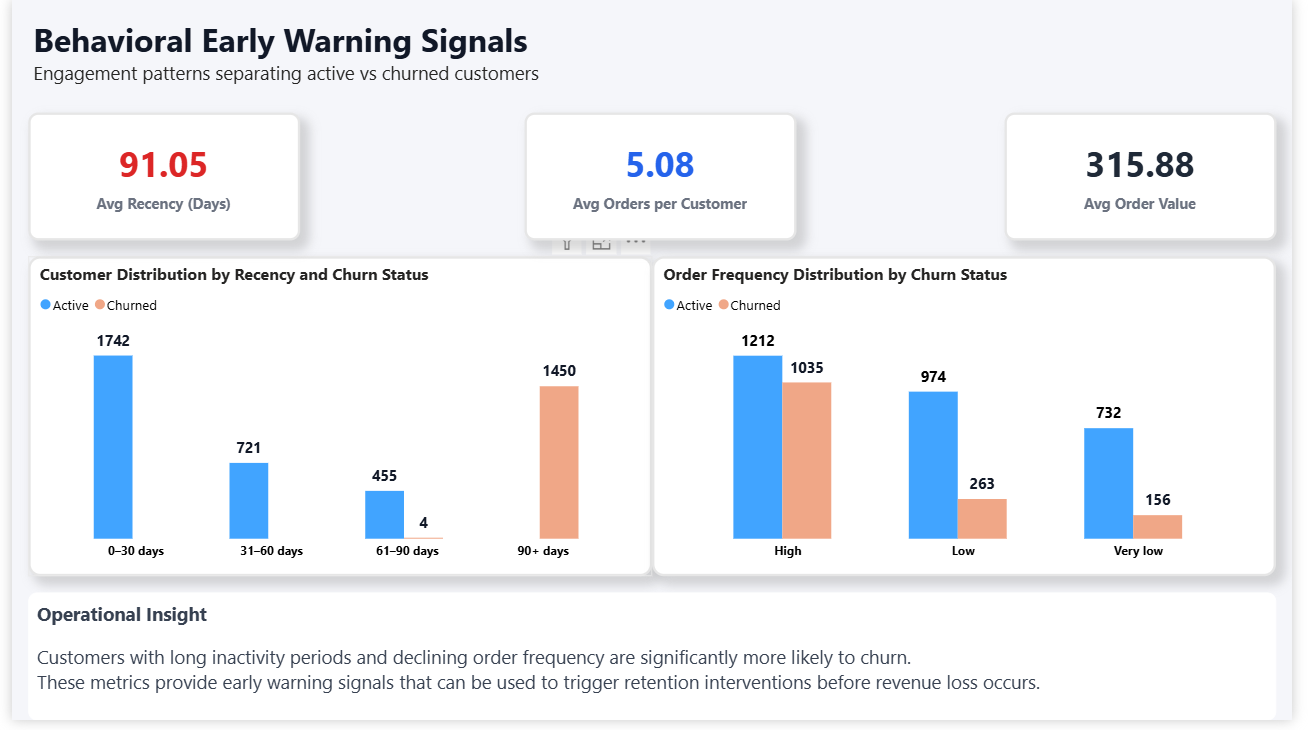

The dashboard page shown, as its layout file describes it:
{"tool":"powerbi","page":{"name":"Behavioral Early Warning Signals","canvas":[1280,720],"ordinal":1},"visuals":[{"type":"clusteredColumnChart","title":"Customer Distribution by Recency and Churn Status","fields":{"Category":["final_churn_powerbi.Recency Bucket"],"Y":["_Measures.Total Customers"],"Series":["final_churn_powerbi.Churn Status"]},"box":[16,256,624,320],"z":0},{"type":"cardVisual","fields":{"Data":["_Measures.Avg Recency (Days)"]},"box":[16,112,272,128],"z":1000},{"type":"cardVisual","fields":{"Data":["_Measures.Avg Orders per Customer"]},"box":[512,112,272,128],"z":2000},{"type":"cardVisual","fields":{"Data":["_Measures.Avg Order Value"]},"box":[992,112,272,128],"z":3000},{"type":"textbox","box":[16,13,1248,80],"z":4000},{"type":"clusteredColumnChart","title":"Order Frequency Distribution by Churn Status","fields":{"Category":["final_churn_powerbi.Order Frequency Bucket"],"Y":["_Measures.Total Customers"],"Series":["final_churn_powerbi.Churn Status"]},"box":[640,256,624,320],"z":5000},{"type":"textbox","box":[16,592,1248,128],"z":6000}]}

Visuals, with their boxes in screenshot pixels (x1, y1, x2, y2), scaled from the page's 1280x720 canvas onto the 1308x730 screenshot:
"Customer Distribution by Recency and Churn Status" clusteredColumnChart: rect(16, 260, 654, 584)
cardVisual - _Measures.Avg Recency (Days): rect(16, 114, 294, 243)
cardVisual - _Measures.Avg Orders per Customer: rect(523, 114, 801, 243)
cardVisual - _Measures.Avg Order Value: rect(1014, 114, 1292, 243)
textbox: rect(16, 13, 1292, 94)
"Order Frequency Distribution by Churn Status" clusteredColumnChart: rect(654, 260, 1292, 584)
textbox: rect(16, 600, 1292, 729)
